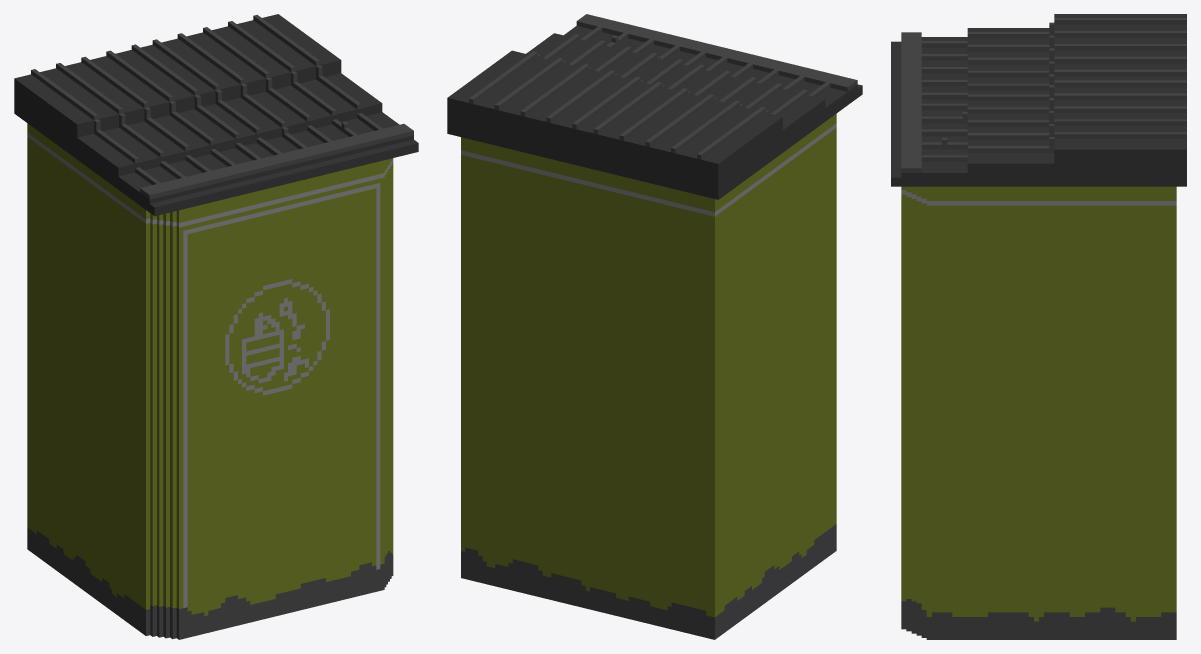
The model's file is Dustbin-0.obj.
The picture shows the model from 3 angles, left to right: view 1: azimuth 30°, elevation 25°; view 2: azimuth 150°, elevation 25°; view 3: azimuth 270°, elevation 25°; orthographic projection. The views are drawn at different scales.
Bounding box in the file's own units: 6.3 × 10.8 × 5.8.
1 material, 1 textured.
